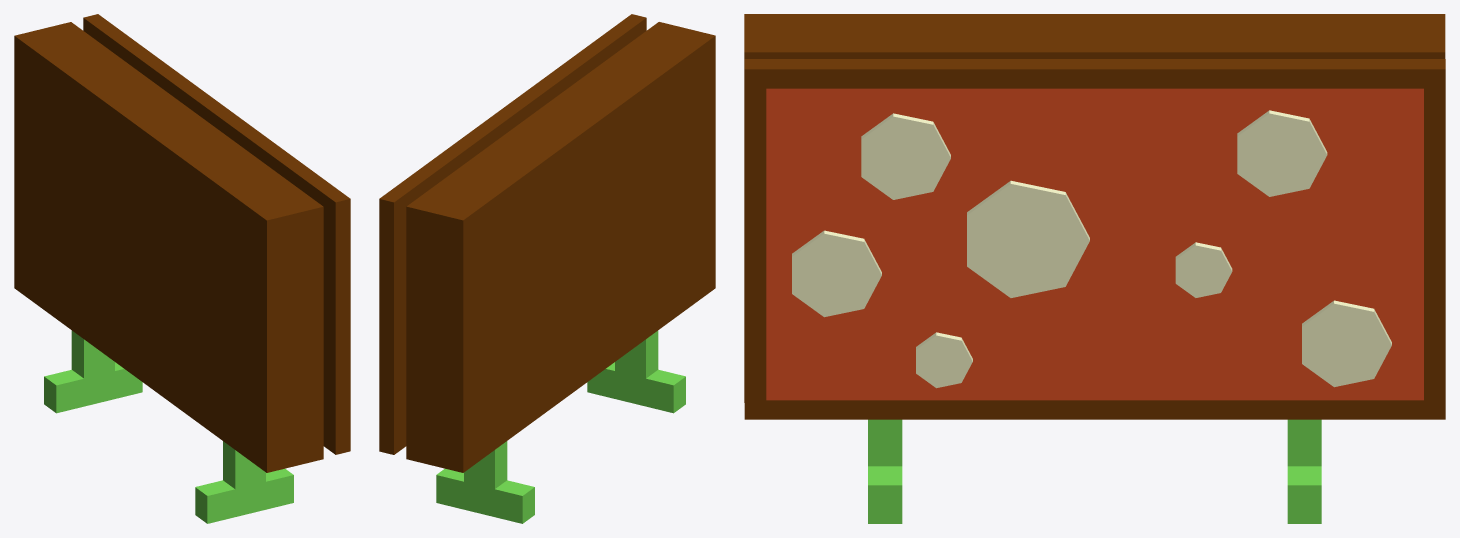
The model's file is Painel.fbx.
3 views of the same model, side by side, from view 1: azimuth 30°, elevation 25°; view 2: azimuth 150°, elevation 25°; view 3: azimuth 270°, elevation 25° (orthographic). The views are drawn at different scales.
Visible parts, largest first — view 1: Cube.073, Cylinder.003, Cylinder.005; view 2: Cube.073, Cylinder.005, Cylinder.003; view 3: Cylinder.003, Cylinder.005, Cube.073.
Part boxes in pixels (x1=…): Cube.073: x1=14, y1=22, x2=323, y2=523; Cylinder.003: x1=209, y1=106, x2=350, y2=454; Cylinder.005: x1=83, y1=14, x2=223, y2=122; Cube.073: x1=406, y1=22, x2=715, y2=523; Cylinder.005: x1=379, y1=106, x2=520, y2=454; Cylinder.003: x1=506, y1=14, x2=646, y2=122; Cylinder.003: x1=744, y1=59, x2=1094, y2=419; Cylinder.005: x1=1095, y1=59, x2=1445, y2=419; Cube.073: x1=744, y1=14, x2=1445, y2=523.
Size of the model in its own units: 47.29 by 146 by 200.
